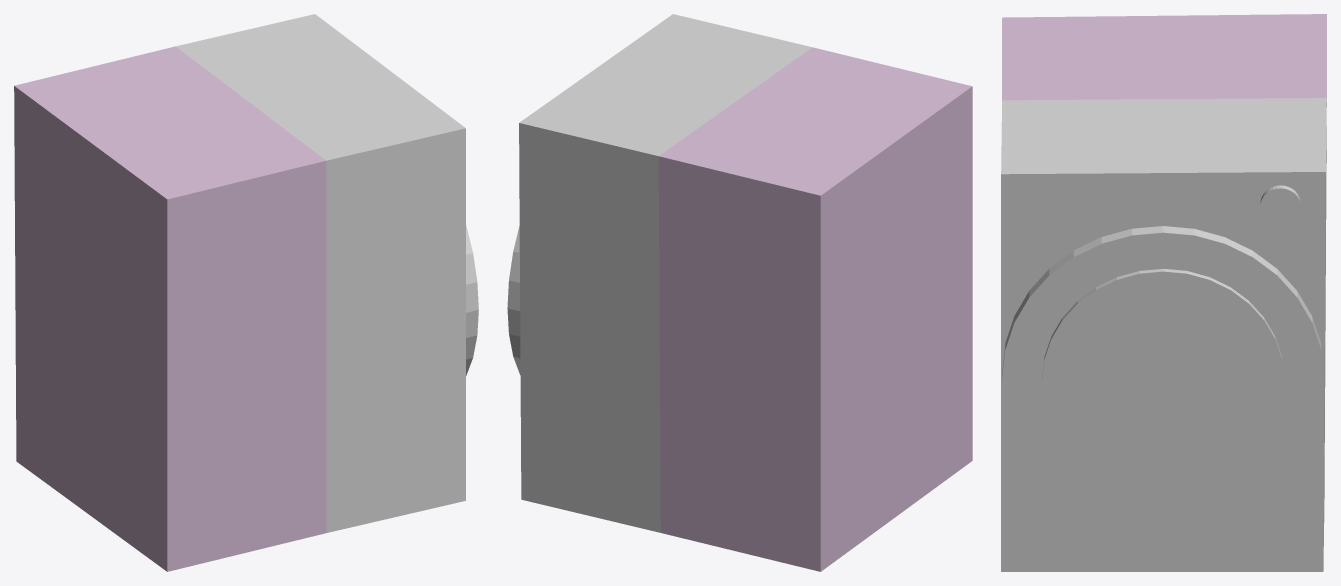
Rendered from WashingMachine.fbx.
The picture shows the model from 3 angles, left to right: view 1: azimuth 30°, elevation 25°; view 2: azimuth 150°, elevation 25°; view 3: azimuth 270°, elevation 25°; orthographic projection. The views are drawn at different scales.
Visible parts, largest first — view 1: DishwasherBodyCube, DishwasherBodyCube.004, DishwasherBodyCube.002; view 2: DishwasherBodyCube, DishwasherBodyCube.004, DishwasherBodyCube.002; view 3: DishwasherBodyCube.004, DishwasherBodyCube.001, DishwasherBodyCube.002, DishwasherBodyCube, DishwasherBodyCube.003.
Part boxes in pixels (bbox=[...]): DishwasherBodyCube: bbox=[14, 46, 326, 571]; DishwasherBodyCube.004: bbox=[176, 14, 465, 532]; DishwasherBodyCube.002: bbox=[466, 225, 478, 375]; DishwasherBodyCube: bbox=[658, 47, 972, 571]; DishwasherBodyCube.004: bbox=[519, 14, 811, 532]; DishwasherBodyCube.002: bbox=[507, 226, 520, 375]; DishwasherBodyCube.004: bbox=[1001, 98, 1326, 571]; DishwasherBodyCube.001: bbox=[1042, 268, 1284, 491]; DishwasherBodyCube.002: bbox=[1002, 226, 1324, 524]; DishwasherBodyCube: bbox=[1002, 14, 1326, 100]; DishwasherBodyCube.003: bbox=[1260, 185, 1300, 224].
Bounding box in the file's own units: 243 × 275 × 202.
